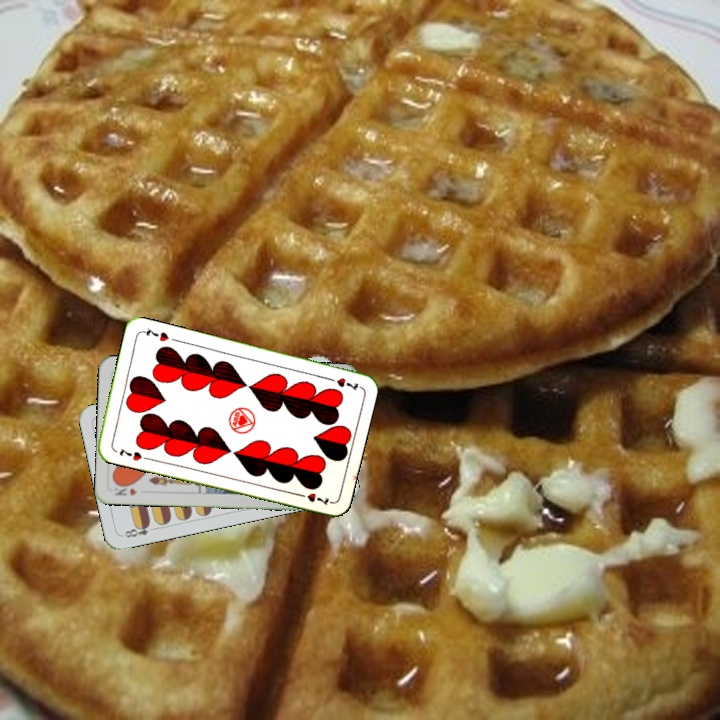E8: (121, 519, 159, 540)
H7: (322, 373, 361, 393), (115, 444, 145, 463)
HK: (111, 480, 139, 498)
